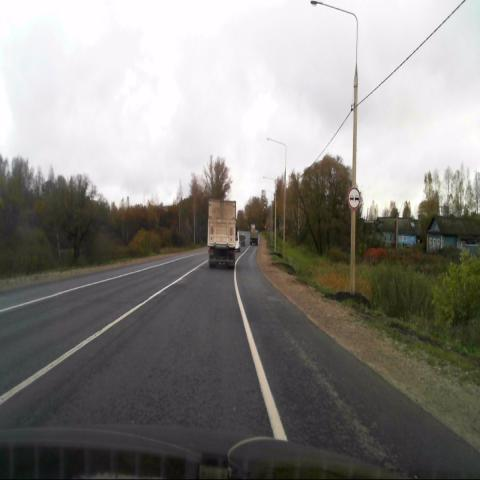3_20: (347, 188, 360, 209)
